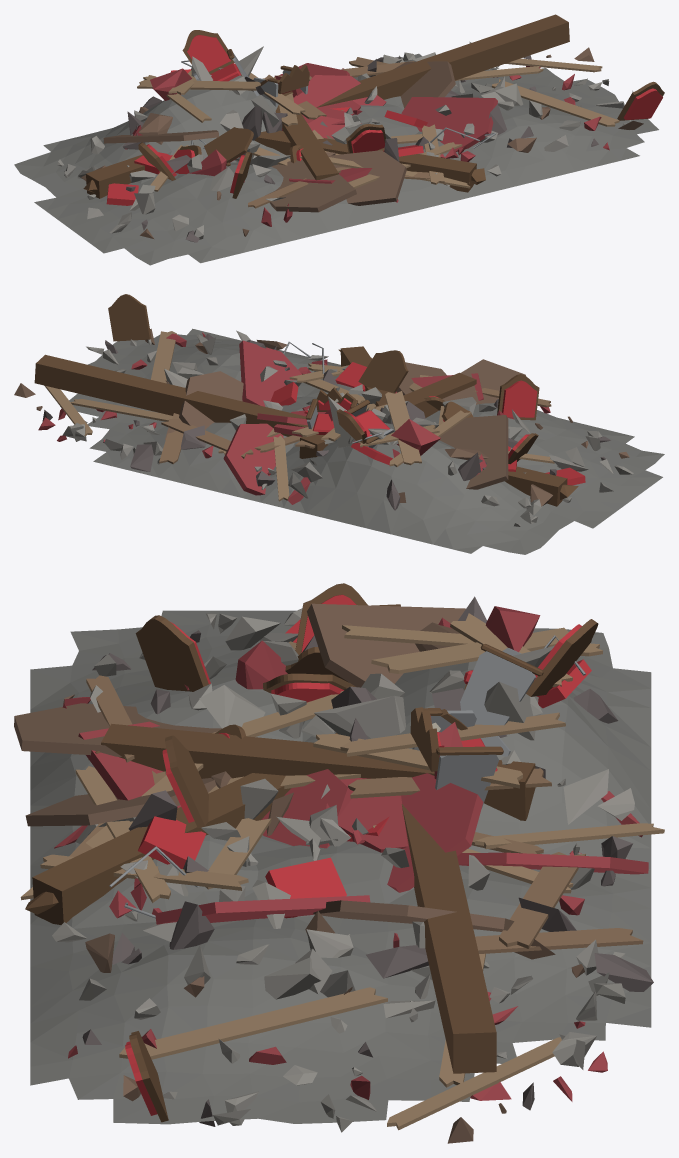
File: rubble_field_b.glb
The picture shows the model from 3 angles, top to bottom: view 1: azimuth 30°, elevation 25°; view 2: azimuth 150°, elevation 25°; view 3: azimuth 270°, elevation 25°; orthographic projection. The views are drawn at different scales.
Parts seen in each view (by area): view 1: concrete_dark__rubble_field_b__solid, dark_wood__rubble_field_b__solid, wall_theater__rubble_field_b__solid, ceiling_theater__rubble_field_b__solid, concrete__rubble_field_b__solid, plank__rubble_field_b__solid, velvet__rubble_field_b__solid, stone__rubble_field_b__solid, wood__rubble_field_b__solid, steel__rubble_field_b__solid; view 2: concrete_dark__rubble_field_b__solid, dark_wood__rubble_field_b__solid, wall_theater__rubble_field_b__solid, ceiling_theater__rubble_field_b__solid, concrete__rubble_field_b__solid, plank__rubble_field_b__solid, velvet__rubble_field_b__solid, stone__rubble_field_b__solid, wood__rubble_field_b__solid, steel__rubble_field_b__solid; view 3: concrete_dark__rubble_field_b__solid, dark_wood__rubble_field_b__solid, concrete__rubble_field_b__solid, plank__rubble_field_b__solid, wall_theater__rubble_field_b__solid, ceiling_theater__rubble_field_b__solid, stone__rubble_field_b__solid, velvet__rubble_field_b__solid, wood__rubble_field_b__solid, steel__rubble_field_b__solid.
Boxes of the visible parts, box(x1,y1,x2,y2) form: concrete_dark__rubble_field_b__solid: box(14, 53, 658, 265); dark_wood__rubble_field_b__solid: box(83, 14, 664, 198); wall_theater__rubble_field_b__solid: box(125, 63, 609, 226); ceiling_theater__rubble_field_b__solid: box(81, 47, 643, 239); concrete__rubble_field_b__solid: box(57, 41, 633, 239); plank__rubble_field_b__solid: box(137, 58, 619, 191); velvet__rubble_field_b__solid: box(106, 35, 662, 205); stone__rubble_field_b__solid: box(122, 55, 598, 242); wood__rubble_field_b__solid: box(248, 57, 430, 208); steel__rubble_field_b__solid: box(181, 52, 496, 148); concrete_dark__rubble_field_b__solid: box(60, 328, 664, 554); dark_wood__rubble_field_b__solid: box(34, 294, 578, 506); wall_theater__rubble_field_b__solid: box(38, 332, 550, 504); ceiling_theater__rubble_field_b__solid: box(14, 328, 629, 506); concrete__rubble_field_b__solid: box(62, 330, 633, 526); plank__rubble_field_b__solid: box(44, 331, 554, 501); velvet__rubble_field_b__solid: box(270, 362, 585, 485); stone__rubble_field_b__solid: box(42, 334, 611, 510); wood__rubble_field_b__solid: box(159, 388, 551, 463); steel__rubble_field_b__solid: box(283, 341, 394, 448); concrete_dark__rubble_field_b__solid: box(30, 610, 651, 1124); dark_wood__rubble_field_b__solid: box(25, 583, 598, 1122); concrete__rubble_field_b__solid: box(52, 608, 634, 1132); plank__rubble_field_b__solid: box(20, 613, 664, 1130); wall_theater__rubble_field_b__solid: box(54, 606, 648, 1101); ceiling_theater__rubble_field_b__solid: box(14, 603, 584, 1143); stone__rubble_field_b__solid: box(82, 596, 653, 1126); velvet__rubble_field_b__solid: box(125, 594, 591, 1115); wood__rubble_field_b__solid: box(69, 675, 643, 953); steel__rubble_field_b__solid: box(109, 635, 585, 918).
Bounding box in the file's own units: 7.75 × 1.39 × 3.98.
